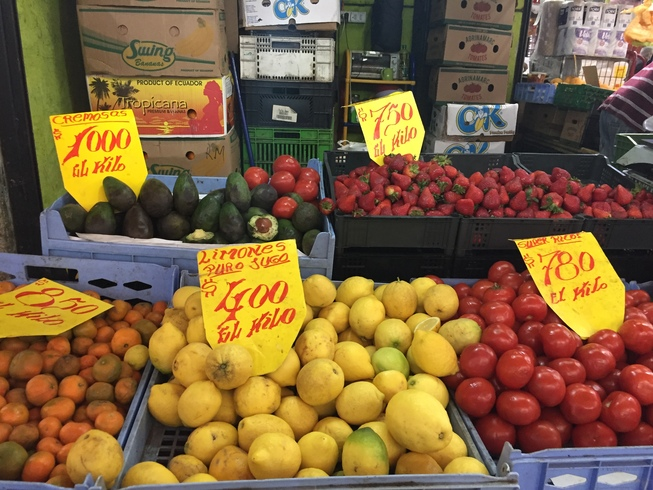precio: (195, 240, 312, 379), (516, 226, 630, 347), (52, 104, 146, 218), (1, 273, 112, 348), (352, 87, 429, 179)
